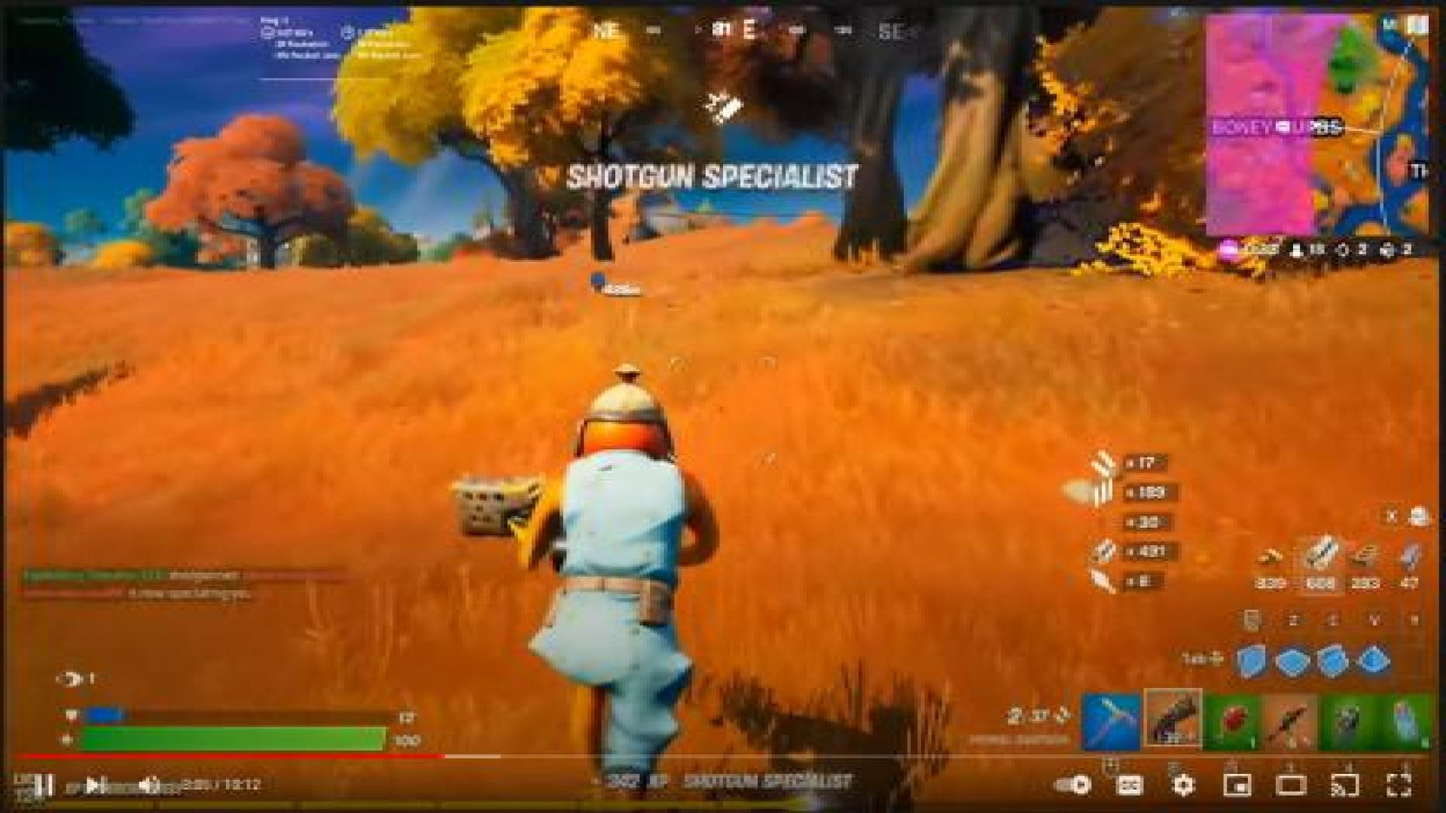player: (520, 373, 721, 795)
